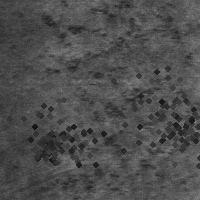rolled-in_scale: (35, 2, 181, 94), (61, 83, 172, 196), (99, 55, 200, 167), (8, 84, 110, 186), (142, 83, 200, 177), (27, 125, 67, 165)
